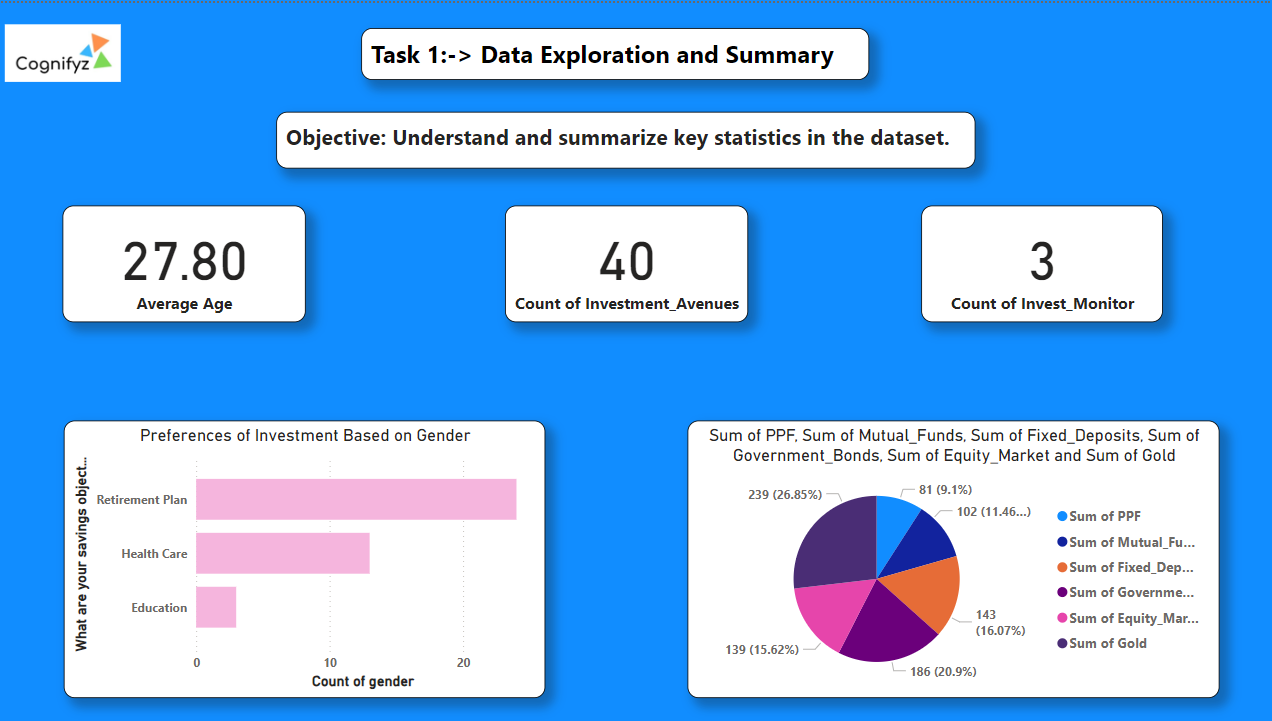

Layout of this report page (visuals, bound fields, positions):
{"tool":"powerbi","page":{"name":"Task 1","canvas":[1280,720],"ordinal":0},"visuals":[{"type":"textbox","box":[361,25,508,52],"z":0},{"type":"card","fields":{"Values":["Data_set 2.Average age"]},"box":[63.1,203.1,242.9,116.6],"z":500},{"type":"textbox","box":[276,109,699,57],"z":1000},{"type":"card","fields":{"Values":["CountNonNull(Data_set 2.Investment_Avenues)"]},"box":[505,203,243,117],"z":3000},{"type":"card","fields":{"Values":["Count(Data_set 2.Invest_Monitor)"]},"box":[920.8,203.1,241.5,116.6],"z":4000},{"type":"barChart","title":"Preferences of Investment Based on Gender","fields":{"Category":["Data_set 2.What are your savings objectives?"],"Y":["CountNonNull(Data_set 2.gender)"]},"box":[63.2,417.3,481.5,277.2],"z":5000},{"type":"pieChart","fields":{"Y":["Sum(Data_set 2.PPF)","Sum(Data_set 2.Mutual_Funds)","Sum(Data_set 2.Fixed_Deposits)","Sum(Data_set 2.Government_Bonds)","Sum(Data_set 2.Equity_Market)","Sum(Data_set 2.Gold)"]},"box":[687.7,417.3,532,277.2],"z":6000}]}

Visuals, with their boxes in screenshot pixels (x1, y1, x2, y2), scaled from the page's 1280x720 canvas onto the 1272x721 screenshot:
textbox: 359,25,864,77
card - Data_set 2.Average age: 63,203,304,320
textbox: 274,109,969,166
card - CountNonNull(Data_set 2.Investment_Avenues): 502,203,743,320
card - Count(Data_set 2.Invest_Monitor): 915,203,1155,320
"Preferences of Investment Based on Gender" barChart: 63,418,541,695
pieChart - Sum(Data_set 2.PPF) x Sum(Data_set 2.Mutual_Funds): 683,418,1212,695
